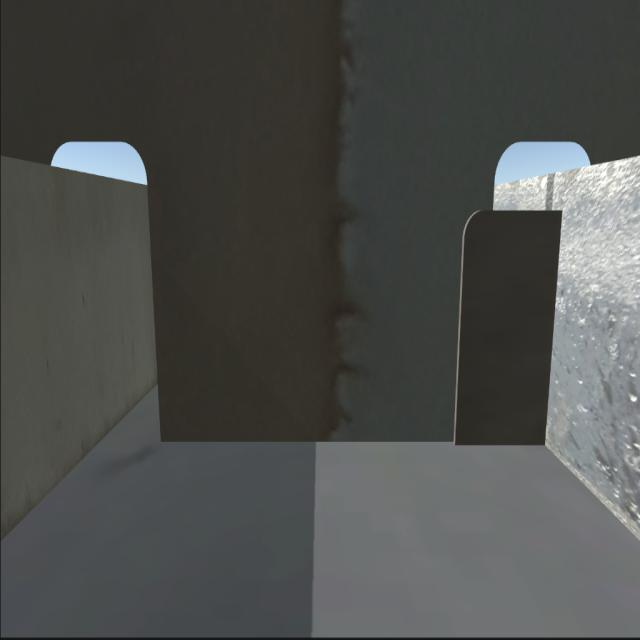fillet_yong_jeop_jang: (158, 434, 545, 456)
longi_yong_jeop_jang: (539, 200, 561, 459)
plate_CP05: (457, 200, 552, 448)
